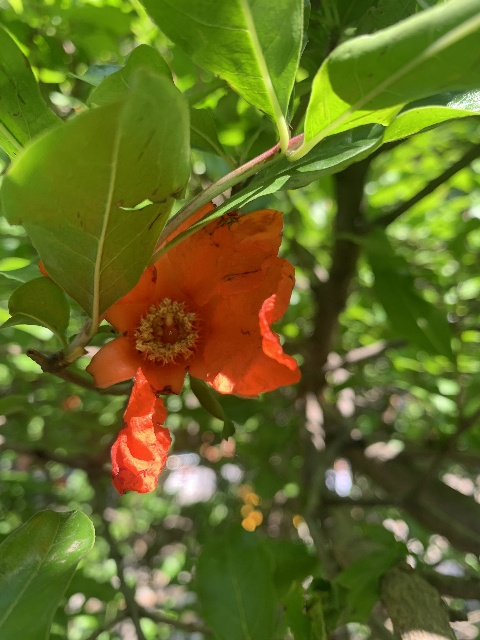flower: (31, 191, 304, 500)
